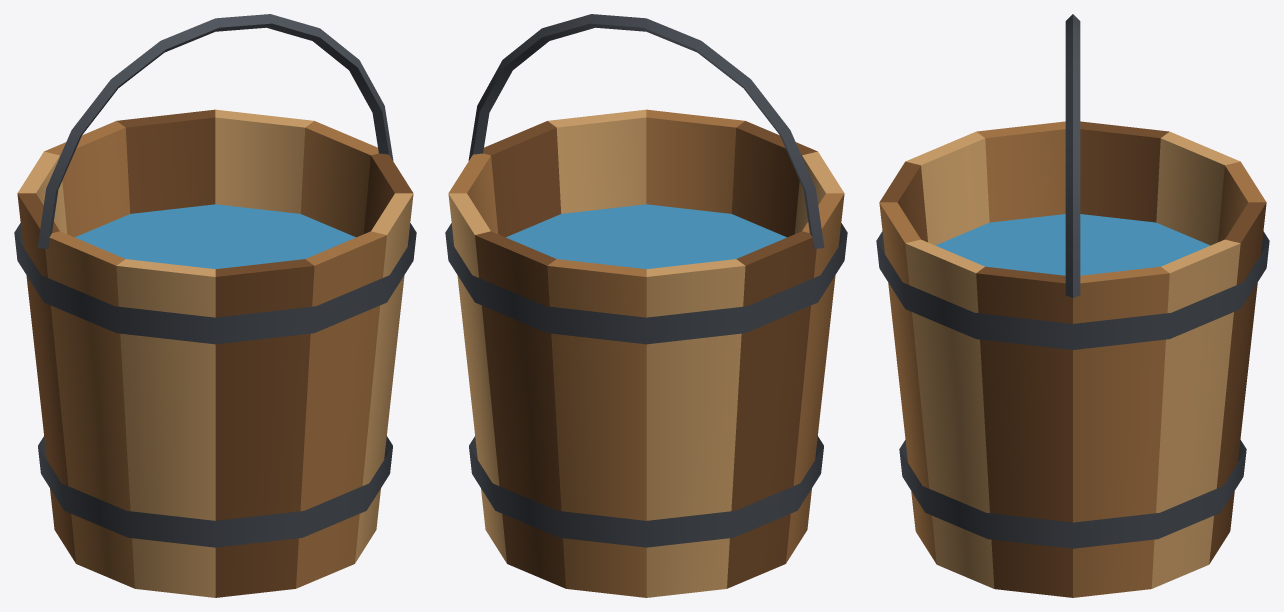
File: SM_Bucket_Wood.glb
3 views of the same model, side by side, from view 1: azimuth 30°, elevation 25°; view 2: azimuth 150°, elevation 25°; view 3: azimuth 270°, elevation 25° (orthographic). The views are drawn at different scales.
Visible parts, largest first — view 1: SM_Bucket_Wood; view 2: SM_Bucket_Wood; view 3: SM_Bucket_Wood.
Part boxes in pixels (<box>): SM_Bucket_Wood: <box>14,14,416,597</box>; SM_Bucket_Wood: <box>445,14,847,597</box>; SM_Bucket_Wood: <box>876,14,1269,597</box>.
Bounding box in the file's own units: 0.332 × 0.456 × 0.325.
Materials: 1 (1 with a texture image).
